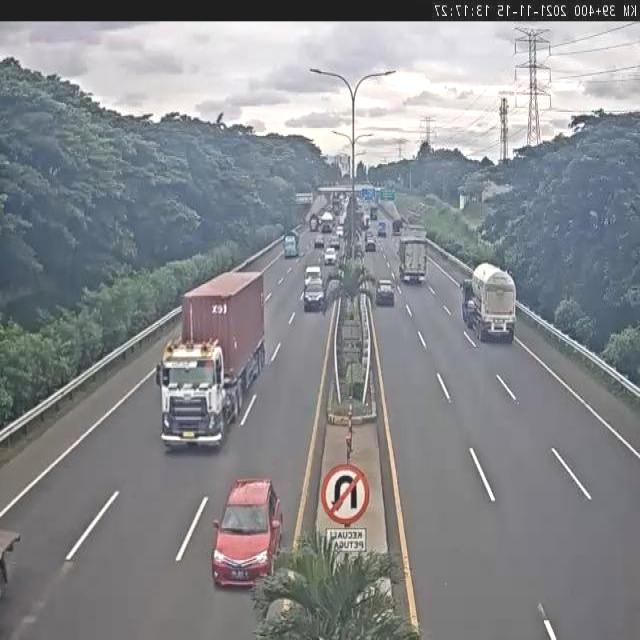Car: (212, 479, 284, 590), (303, 280, 325, 312), (376, 280, 395, 306), (304, 266, 322, 288), (324, 247, 337, 266), (365, 232, 376, 251), (329, 233, 340, 250), (314, 234, 324, 249), (377, 221, 386, 237), (336, 225, 344, 238)
Truck: (157, 269, 266, 448), (460, 262, 516, 340), (398, 236, 427, 282), (283, 229, 300, 259)
